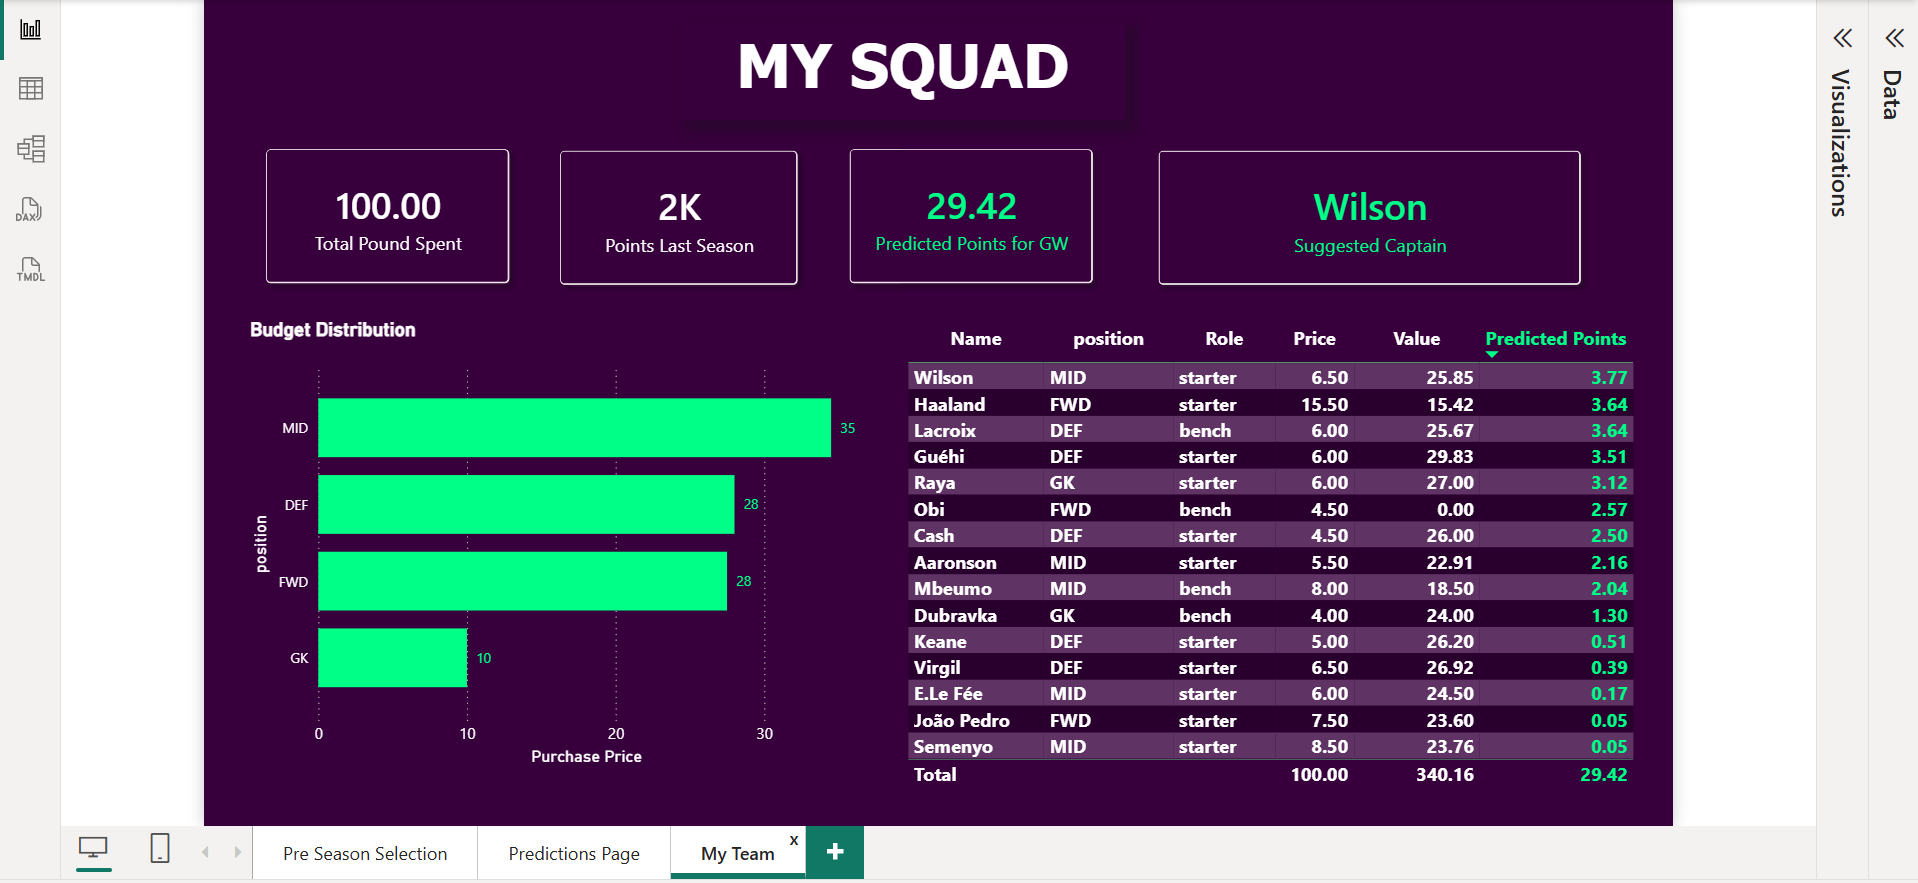

Layout of this report page (visuals, bound fields, positions):
{"tool":"powerbi","page":{"name":"My Team","canvas":[1280,720],"ordinal":2},"visuals":[{"type":"cardVisual","fields":{"Data":["Sum(my_team.purchase_price)"]},"box":[25.3,101.1,270,175.3],"z":0},{"type":"barChart","title":"Budget Distribution","fields":{"Y":["Sum(my_team.purchase_price)"],"Category":["value_table.position","my_team.squad_role"]},"box":[34.7,277.3,545,394.8],"z":1000},{"type":"tableEx","fields":{"Values":["my_team.web_name","value_table.position","my_team.squad_role","Sum(my_team.purchase_price)","Sum(value_table.value_last_per_m)","Sum(value_table.predicted_points)"]},"box":[608.6,277.3,647.1,429.5],"z":2000},{"type":"textbox","box":[413.9,18.9,389.3,86.9],"z":3000},{"type":"cardVisual","fields":{"Data":["Sum(value_table.points_last_season)"]},"box":[281.1,102.6,265.3,175.3],"z":4000},{"type":"cardVisual","fields":{"Data":["Sum(value_table.predicted_points)"]},"box":[533.7,101.1,270,175.3],"z":5000},{"type":"cardVisual","fields":{"Data":["my_team.Captain"]},"box":[803.1,102.1,426.3,175.3],"z":6000}]}

Visuals, with their boxes on the page's 1280x720 design canvas (x1, y1, x2, y2). These are canvas units, not pixel positions in the 1918x883 screenshot, which may show the page scaled, cropped or inside an application window:
cardVisual - Sum(my_team.purchase_price): (left=25, top=101, right=295, bottom=276)
"Budget Distribution" barChart: (left=35, top=277, right=580, bottom=672)
tableEx - my_team.web_name x value_table.position: (left=609, top=277, right=1256, bottom=707)
textbox: (left=414, top=19, right=803, bottom=106)
cardVisual - Sum(value_table.points_last_season): (left=281, top=103, right=546, bottom=278)
cardVisual - Sum(value_table.predicted_points): (left=534, top=101, right=804, bottom=276)
cardVisual - my_team.Captain: (left=803, top=102, right=1229, bottom=277)
